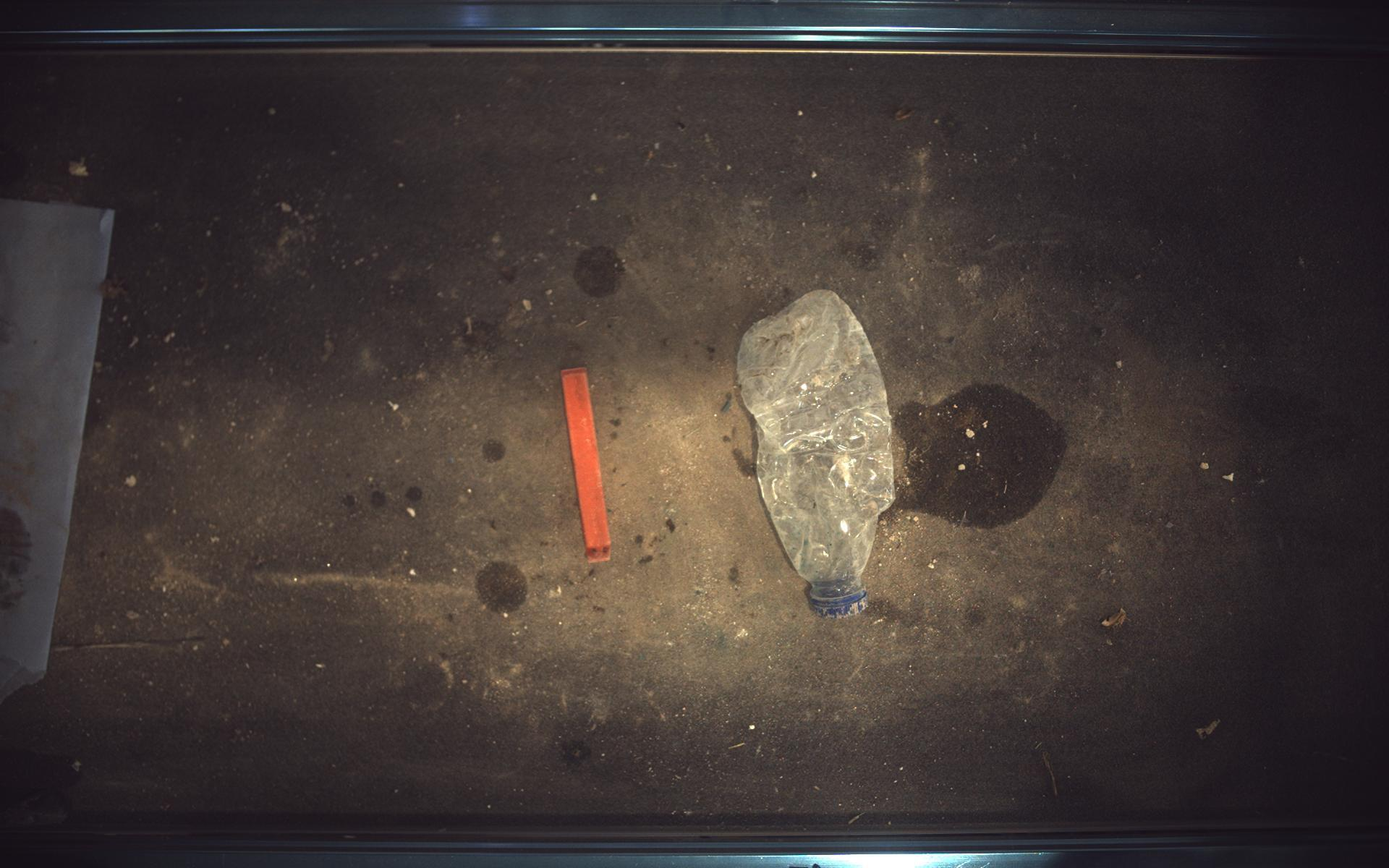general_w: (739, 289, 896, 618), (561, 367, 611, 563)
